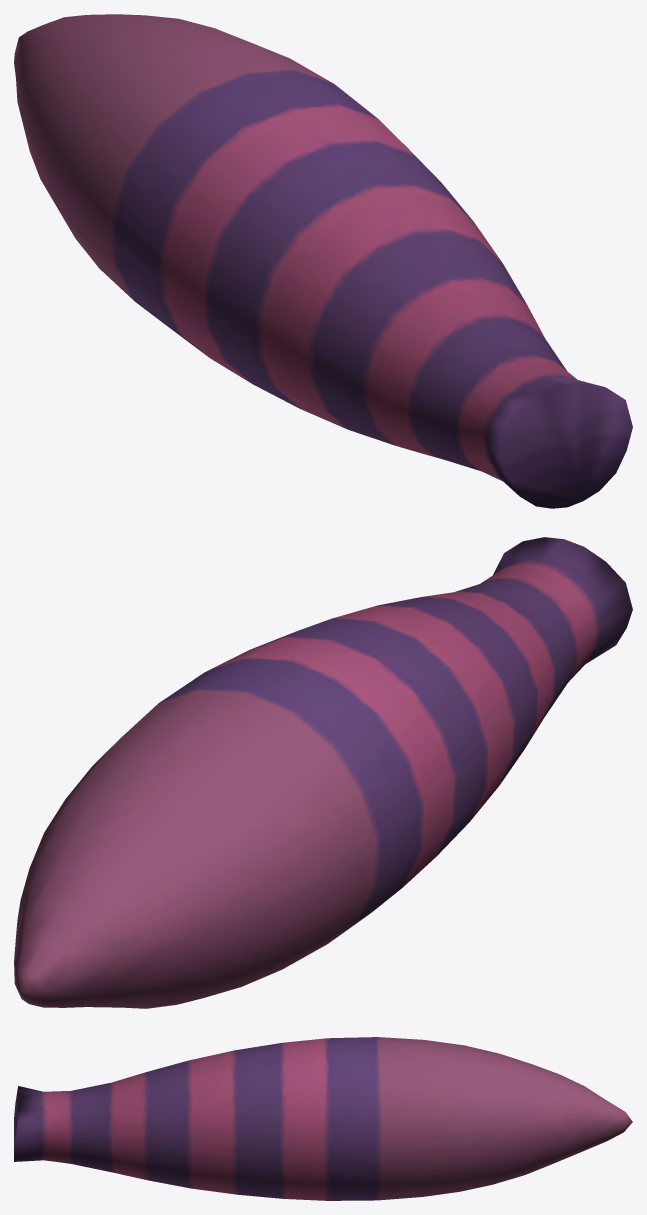
The model's file is tail.obj.
3 views of the same model, one above another, from view 1: azimuth 30°, elevation 25°; view 2: azimuth 150°, elevation 25°; view 3: azimuth 270°, elevation 25° (orthographic). The views are drawn at different scales.
Parts seen in each view (by area): view 1: Bip001 Tail4, Bip001 Tail3, Bip001 Tail2, Bip001 Tail1, Bip001 Pelvis, Bip001 Tail5; view 2: Bip001 Tail5, Bip001 Tail4, Bip001 Tail3, Bip001 Tail2, Bip001 Tail1, Bip001 Pelvis; view 3: Bip001 Tail4, Bip001 Tail5, Bip001 Tail3, Bip001 Tail2, Bip001 Tail1, Bip001 Pelvis.
Part boxes in pixels (x1=…): Bip001 Tail4: x1=51, y1=28, x2=377, y2=355; Bip001 Tail3: x1=160, y1=105, x2=471, y2=407; Bip001 Tail2: x1=258, y1=184, x2=526, y2=445; Bip001 Tail1: x1=365, y1=278, x2=577, y2=480; Bip001 Pelvis: x1=485, y1=375, x2=632, y2=508; Bip001 Tail5: x1=14, y1=14, x2=212, y2=204; Bip001 Tail5: x1=14, y1=759, x2=287, y2=1008; Bip001 Tail4: x1=67, y1=658, x2=422, y2=986; Bip001 Tail3: x1=206, y1=618, x2=486, y2=886; Bip001 Tail2: x1=332, y1=597, x2=537, y2=821; Bip001 Tail1: x1=423, y1=562, x2=598, y2=747; Bip001 Pelvis: x1=493, y1=537, x2=632, y2=663; Bip001 Tail4: x1=326, y1=1037, x2=464, y2=1200; Bip001 Tail5: x1=461, y1=1045, x2=632, y2=1191; Bip001 Tail3: x1=235, y1=1038, x2=327, y2=1200; Bip001 Tail2: x1=145, y1=1050, x2=237, y2=1194; Bip001 Tail1: x1=43, y1=1072, x2=147, y2=1180; Bip001 Pelvis: x1=14, y1=1086, x2=43, y2=1161.
Size of the model in its own units: 0.3364 by 0.317 by 1.2.
